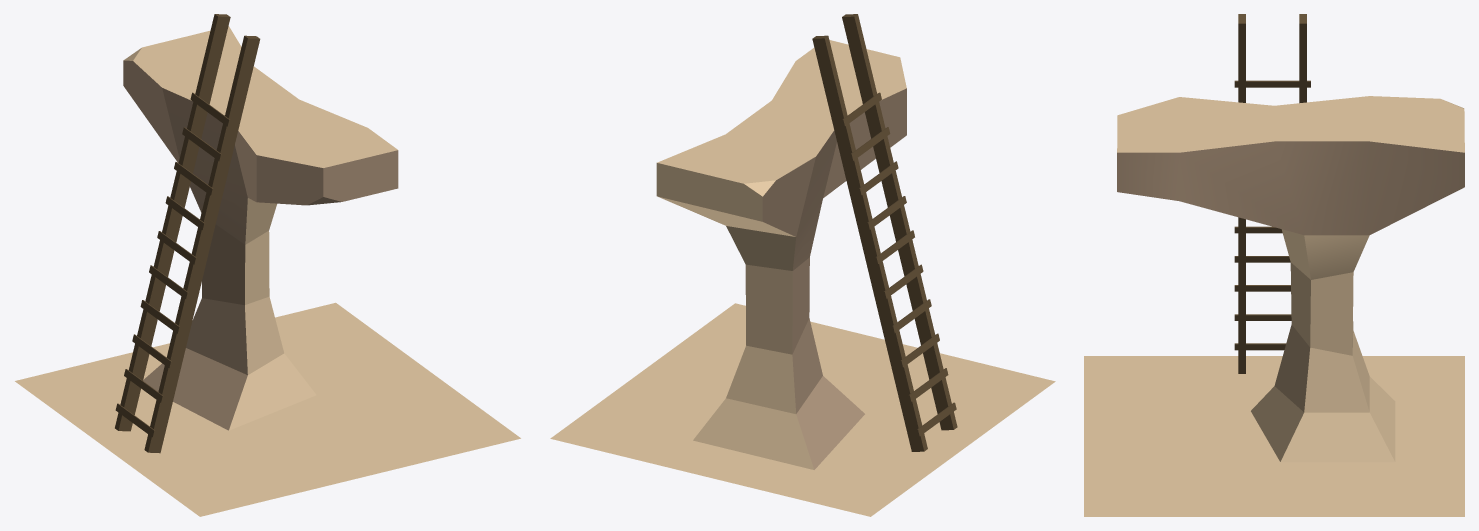
The model's file is FloorLadder.fbx.
The picture shows the model from 3 angles, left to right: view 1: azimuth 30°, elevation 25°; view 2: azimuth 150°, elevation 25°; view 3: azimuth 270°, elevation 25°; orthographic projection. The views are drawn at different scales.
Parts seen in each view (by area): view 1: FloorLadder, FloorLadderLadder; view 2: FloorLadder, FloorLadderLadder; view 3: FloorLadder, FloorLadderLadder.
Part boxes in pixels (box(x1,y1,x2,y2)): FloorLadder: box(15, 26, 520, 516); FloorLadderLadder: box(115, 14, 260, 453); FloorLadder: box(550, 40, 1055, 516); FloorLadderLadder: box(812, 14, 957, 451); FloorLadder: box(1084, 96, 1464, 516); FloorLadderLadder: box(1234, 14, 1310, 373).
Bounding box in the file's own units: 5 × 5.85 × 5.
